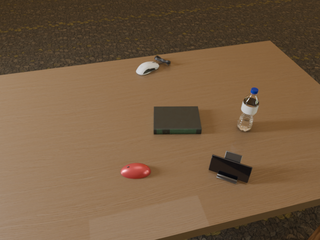book: (154, 106, 201, 134)
bottle: (237, 88, 259, 131)
mouse: (121, 163, 151, 179), (136, 62, 159, 75)
phone: (209, 155, 252, 183)
